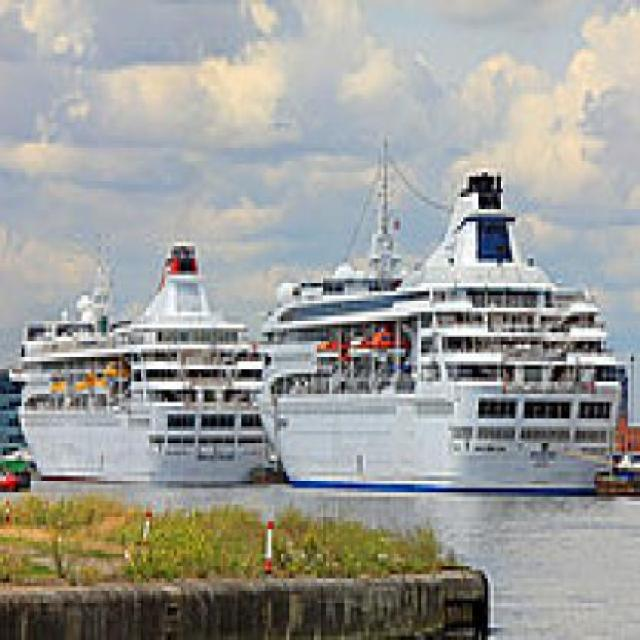cruise: (239, 157, 636, 510), (12, 231, 285, 493)
